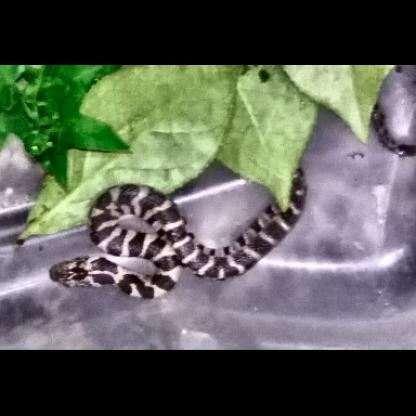Snake: (46, 159, 308, 304)
